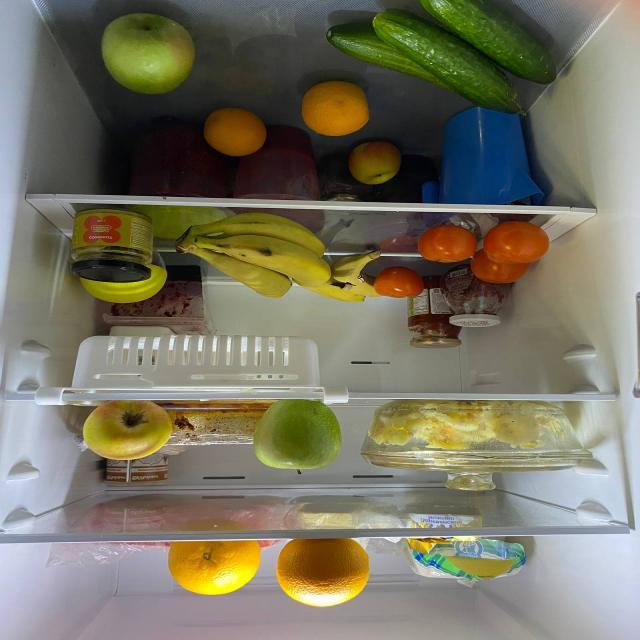Apple: (104, 13, 198, 94), (256, 395, 342, 474), (80, 401, 174, 460), (350, 141, 410, 187)
Banana: (183, 210, 329, 296), (297, 260, 363, 315), (338, 239, 396, 299)
Cucumber: (319, 21, 521, 105), (375, 17, 525, 117), (420, 0, 556, 88)
Orange: (274, 533, 370, 609), (165, 530, 271, 597), (305, 78, 375, 137), (198, 107, 272, 155)
Tomato: (412, 224, 480, 266), (485, 223, 551, 264), (464, 250, 532, 284), (372, 266, 428, 302)
